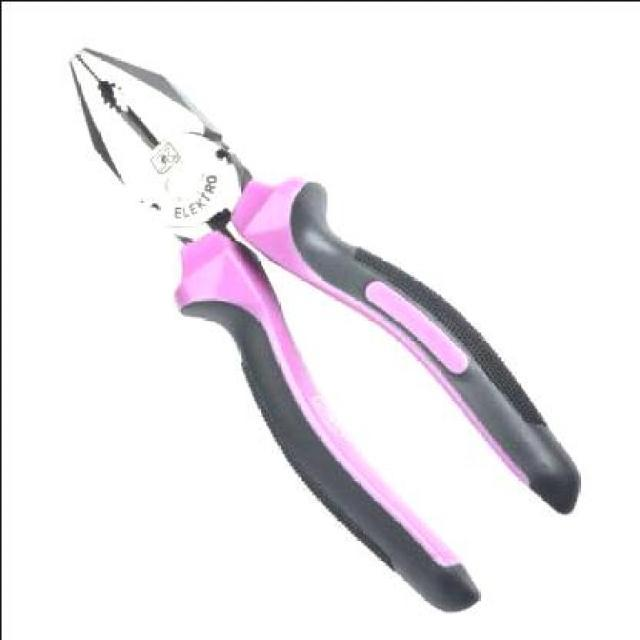pliers: (62, 39, 576, 613)
